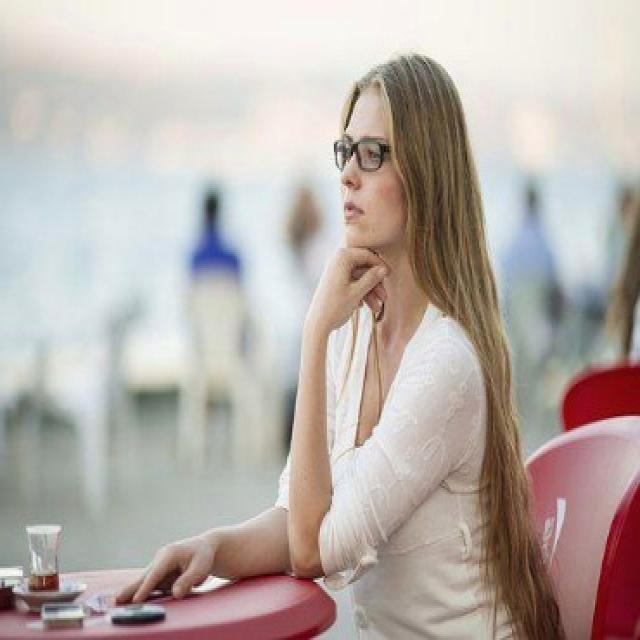adult: (115, 55, 546, 638)
